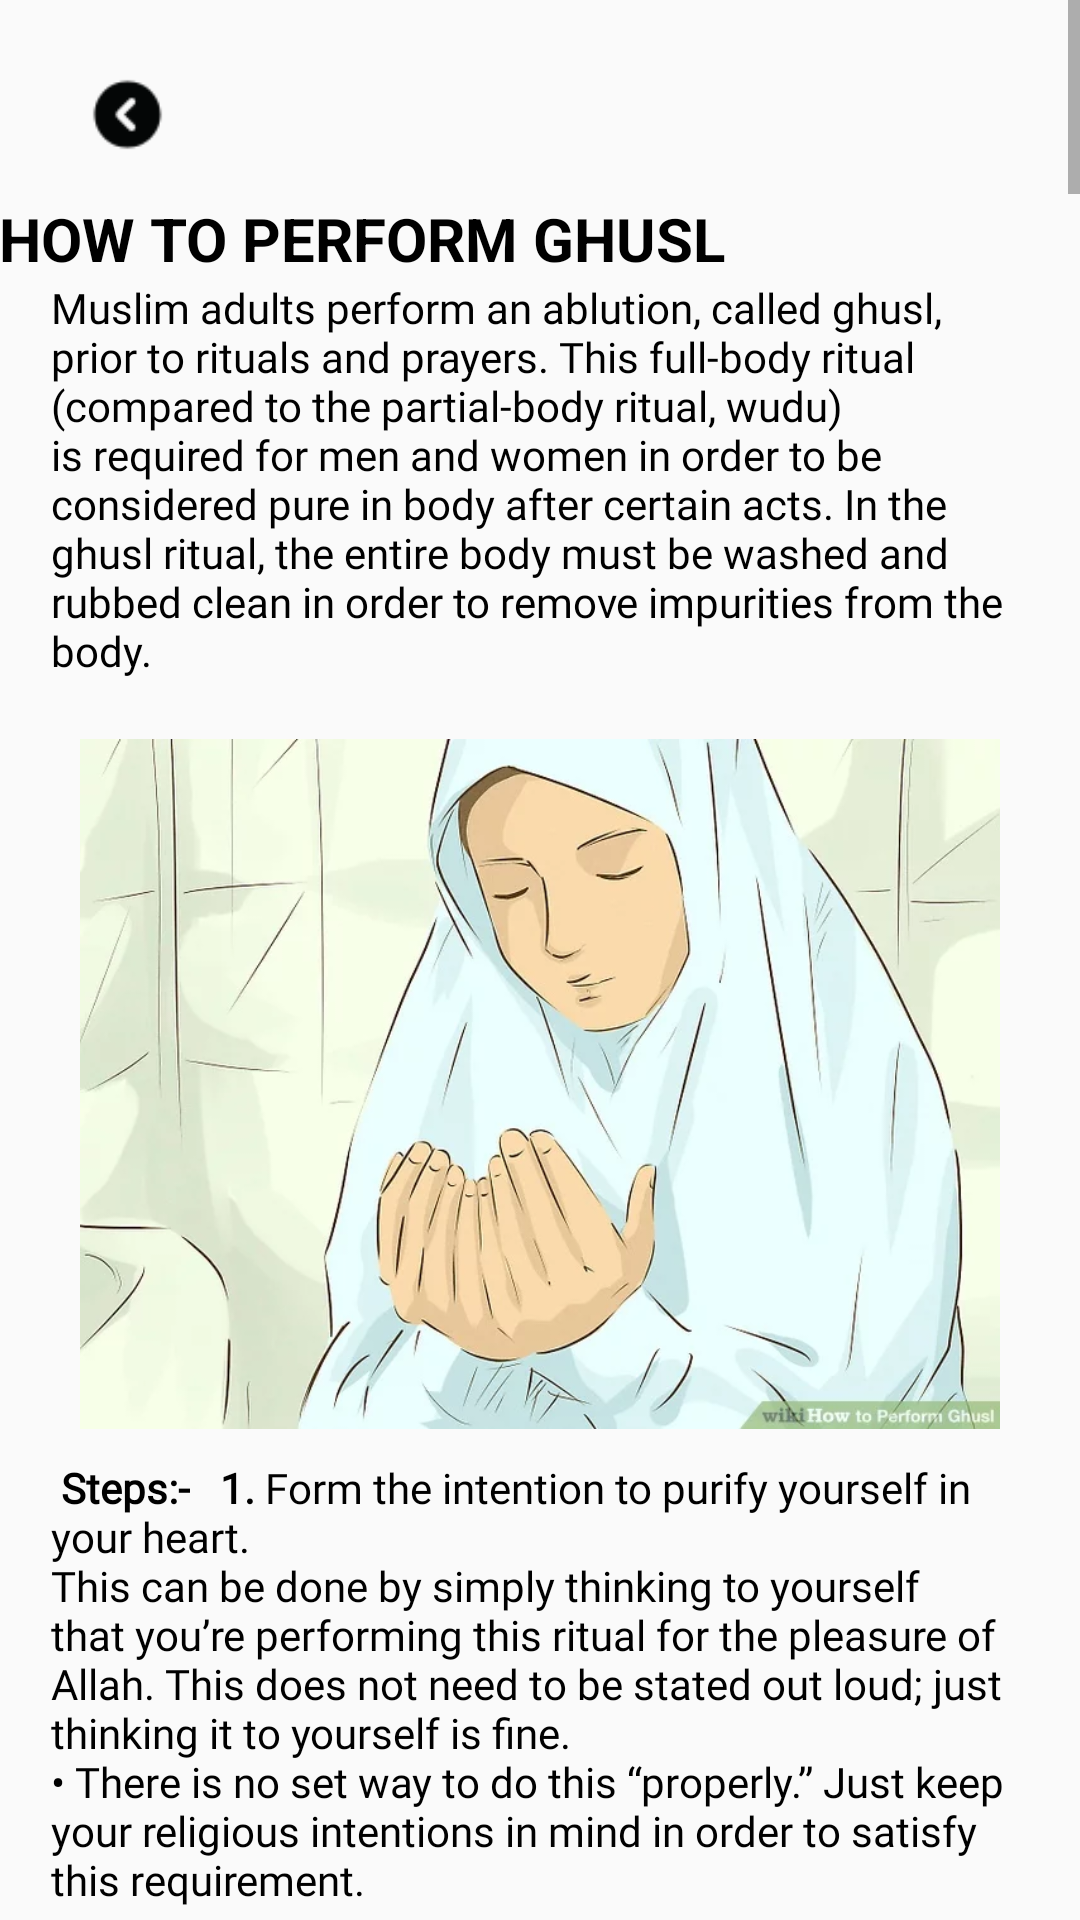

Screen size 1080*1920. Icon name, then its box in pixels as (x1, y1, x2, y2):
backicon: (93, 80, 162, 149)
